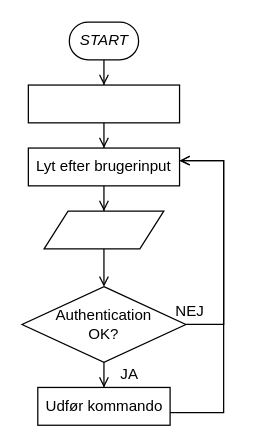
Image size: 256x447. Some labels were removed from this diagram. Each missing label, with the centre of its shape:
"Brugerinput" goes at point 103,229.
"Initiere komponenter" goes at point 103,103.
